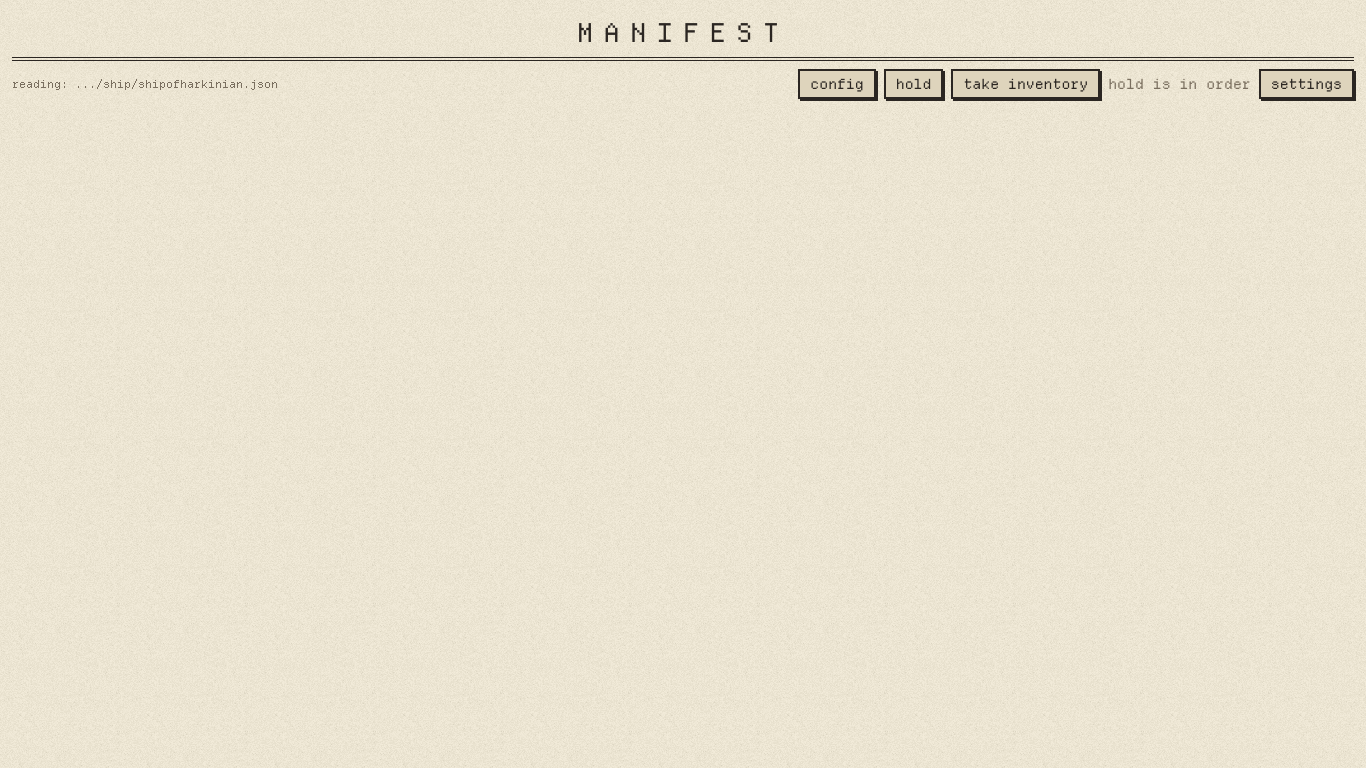
Test: Header › opens the settings panel on toggle click without the same click closing it
The image size is (1366, 768).
Click the button "settings" at [1306, 84], box [1259,69,1354,99]
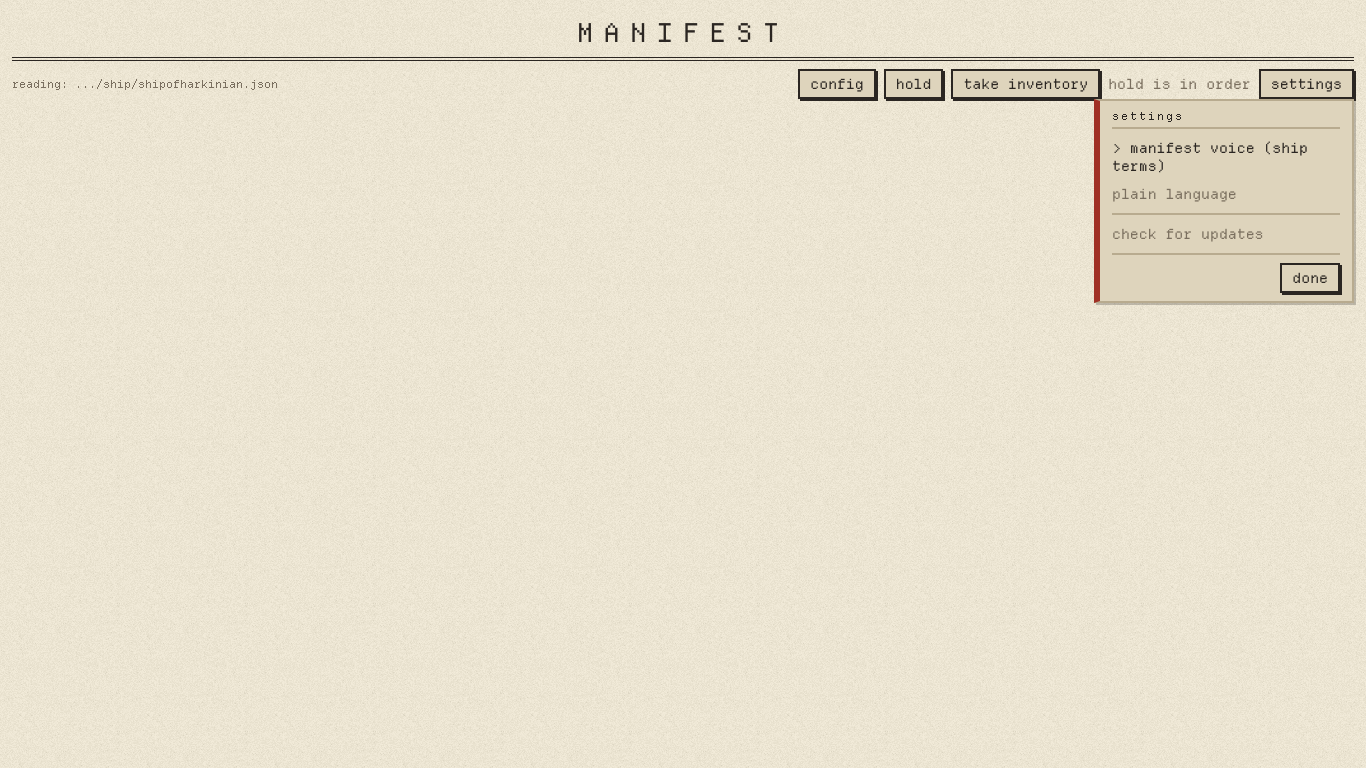
Expected: the dialog "settings" is shown, [1094,99,1354,303]
